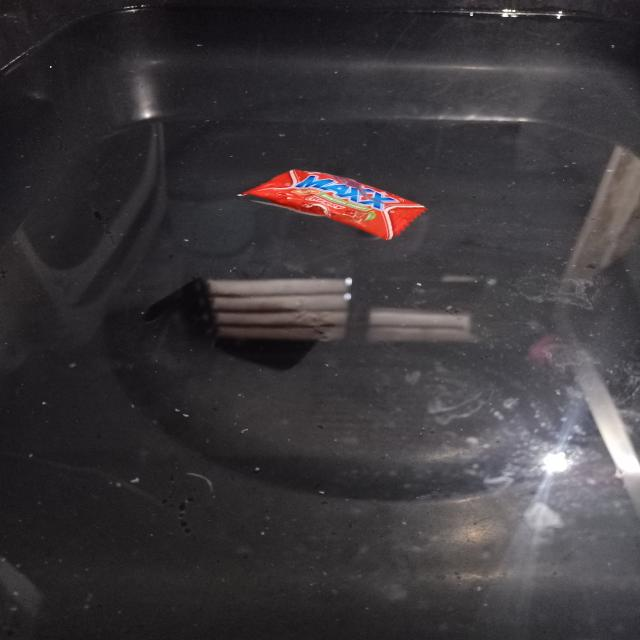Plastic Wrapper: (242, 170, 426, 240)
